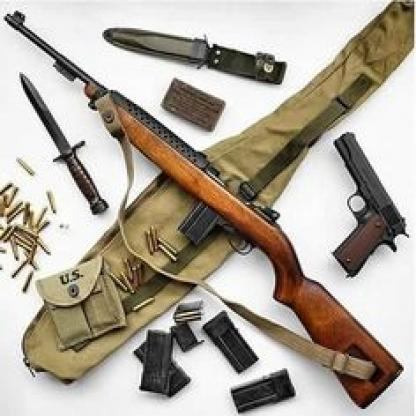Gun: (3, 9, 404, 409)
Knife: (20, 72, 110, 216), (101, 25, 288, 86)
Pistol: (328, 129, 411, 280)
